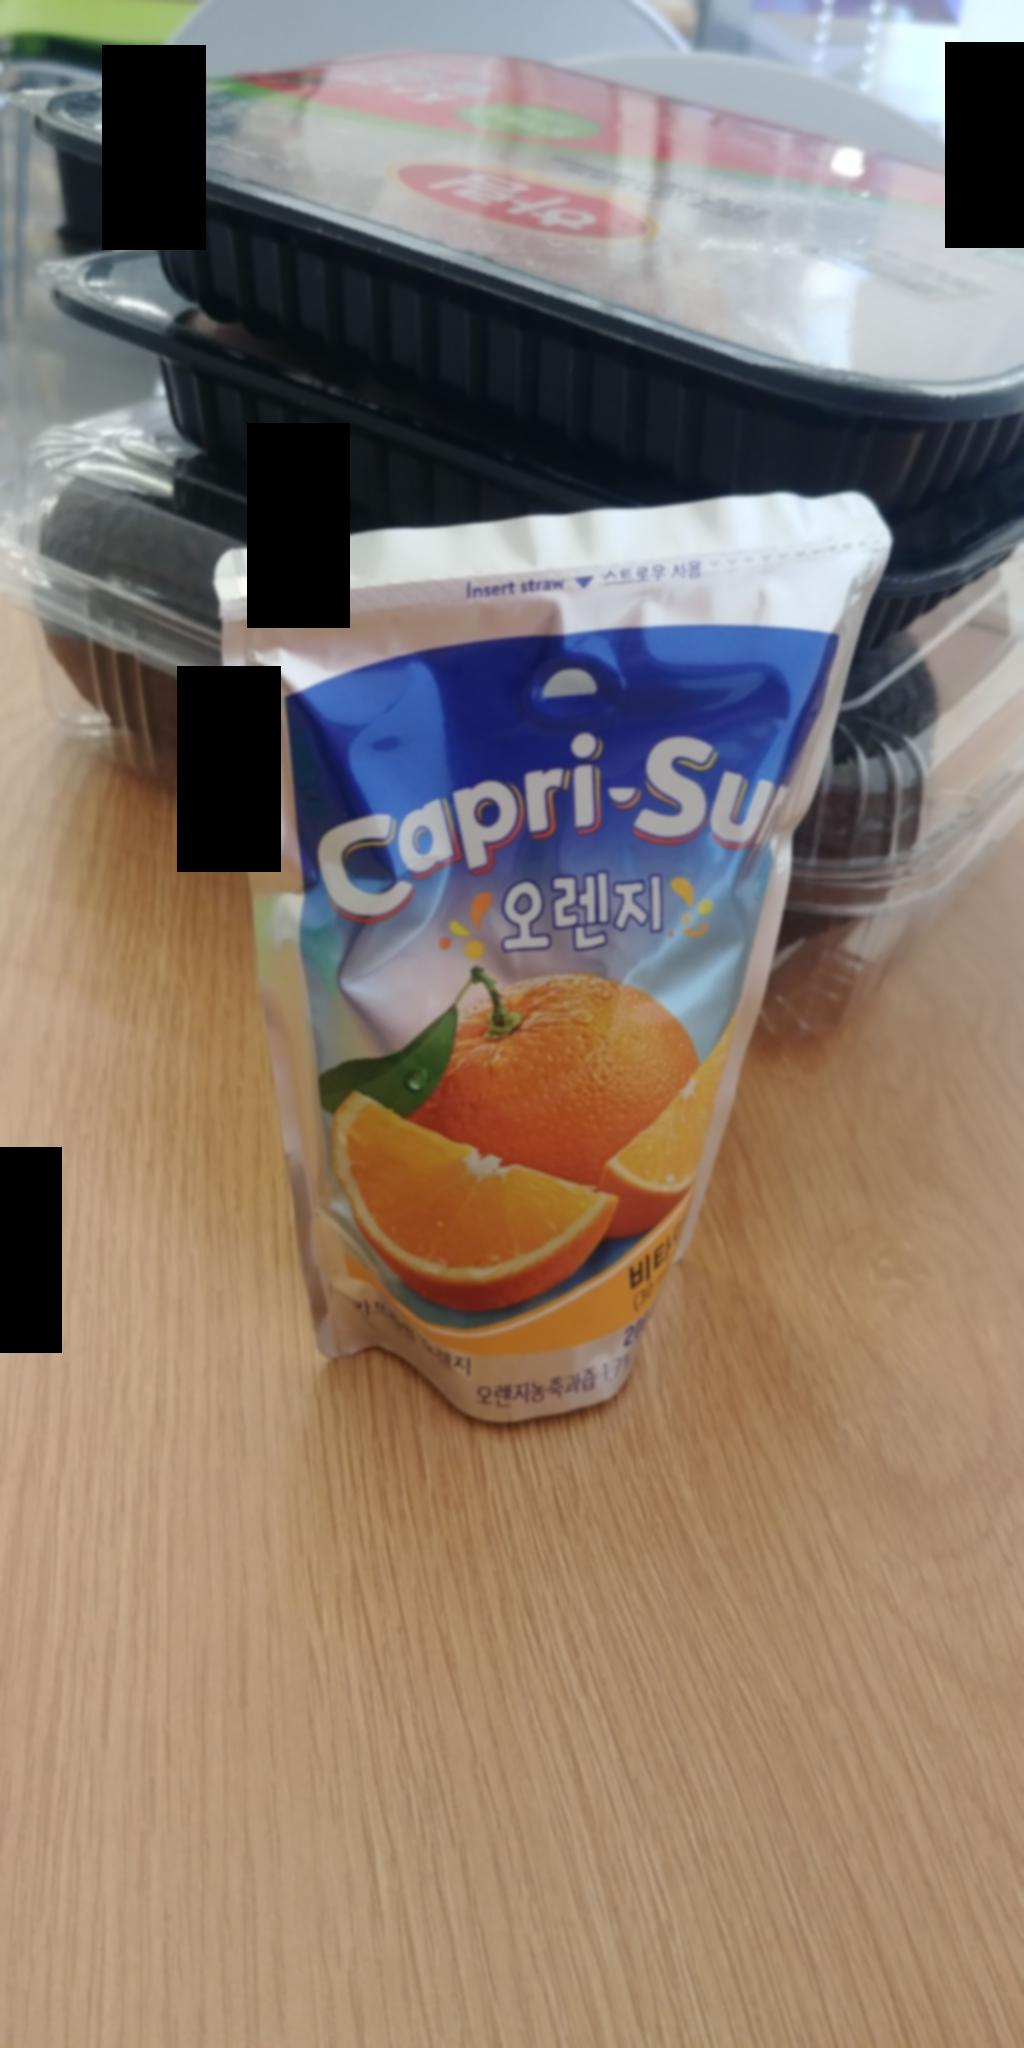cafrisun: (188, 498, 886, 1458)
